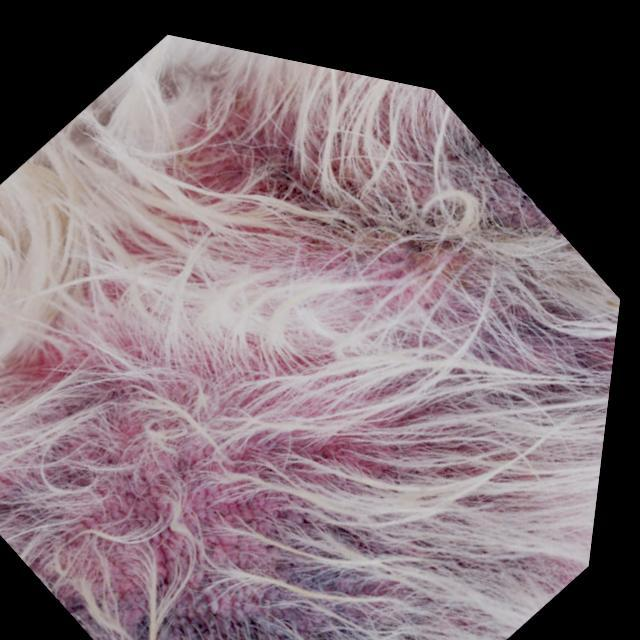nhiem nam cho: (0, 14, 624, 640)
